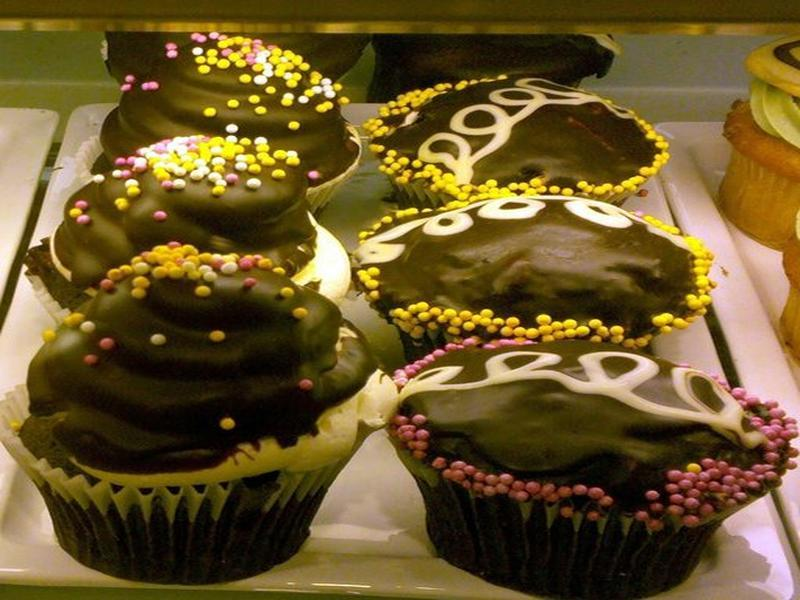cup_cake: (31, 1, 398, 588)
